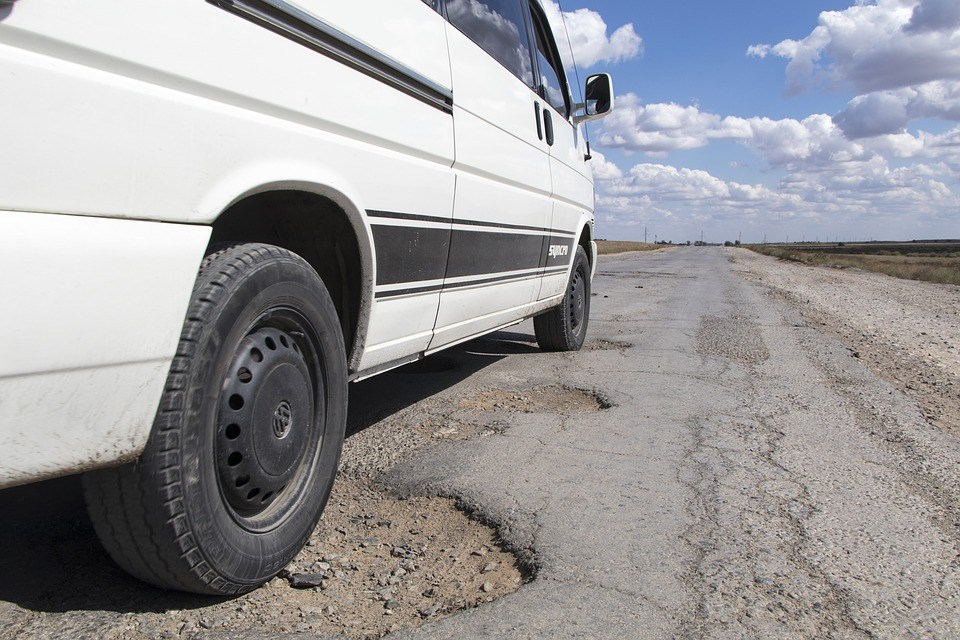pothole: (307, 365, 616, 632)
